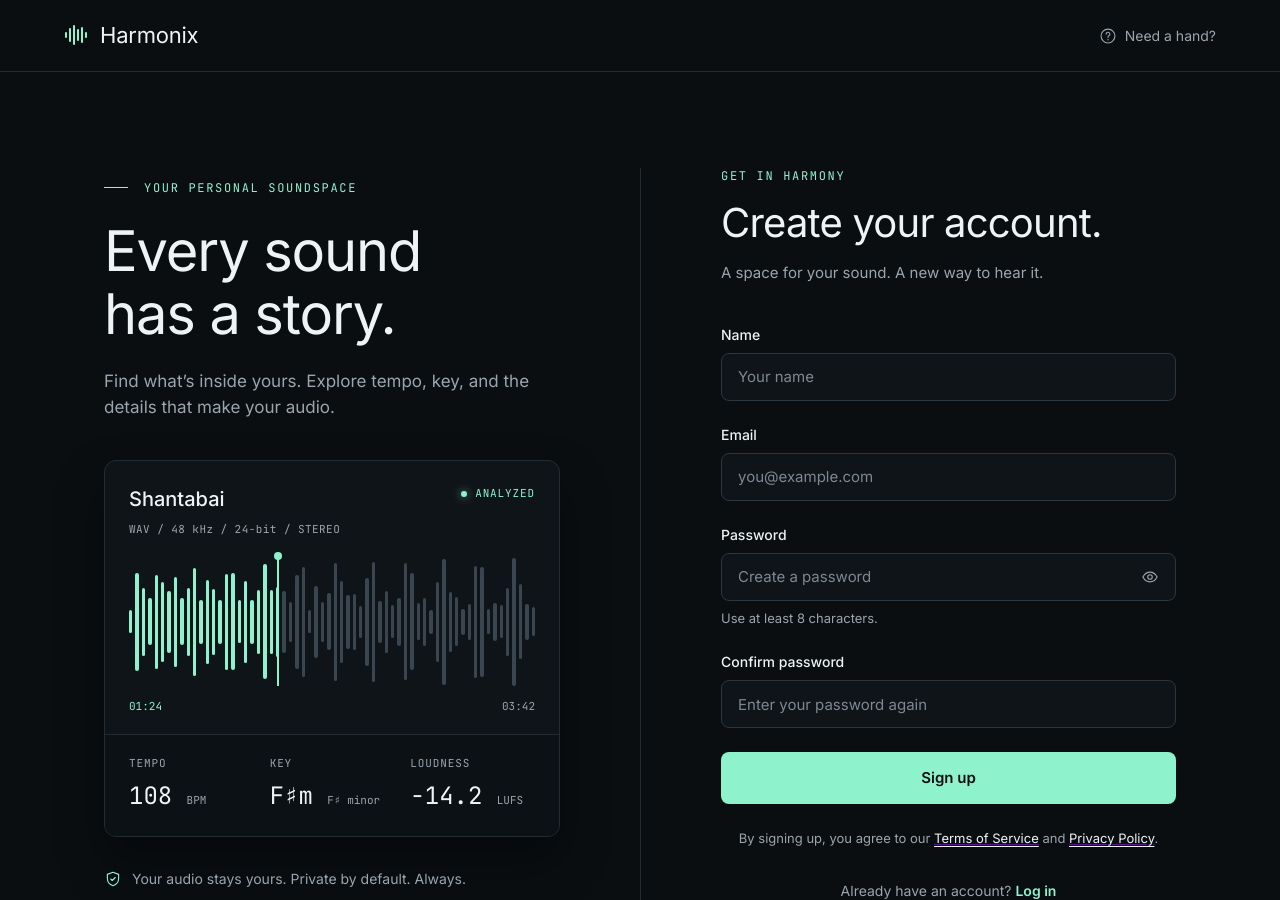
it: login and signup pages › trims signup identity fields and displays email-confirmation guidance
The width and height of the screenshot is (1280, 900).
Type " Listener " into the field labelled "Name" at (948, 376), box [721,352,1176,400]
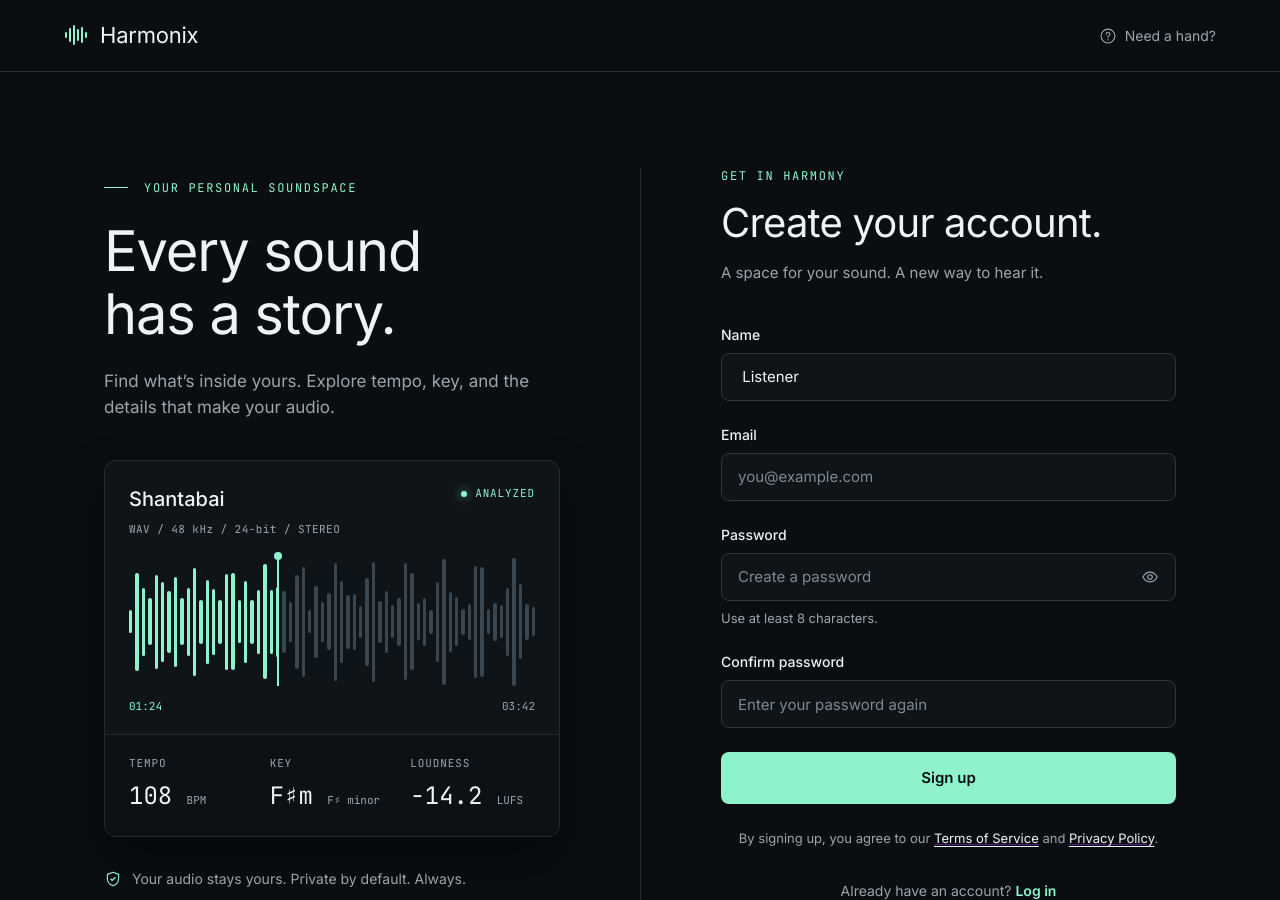
Type " listener@example.com " into the field labelled "Email" at (948, 476), box [721,452,1176,500]
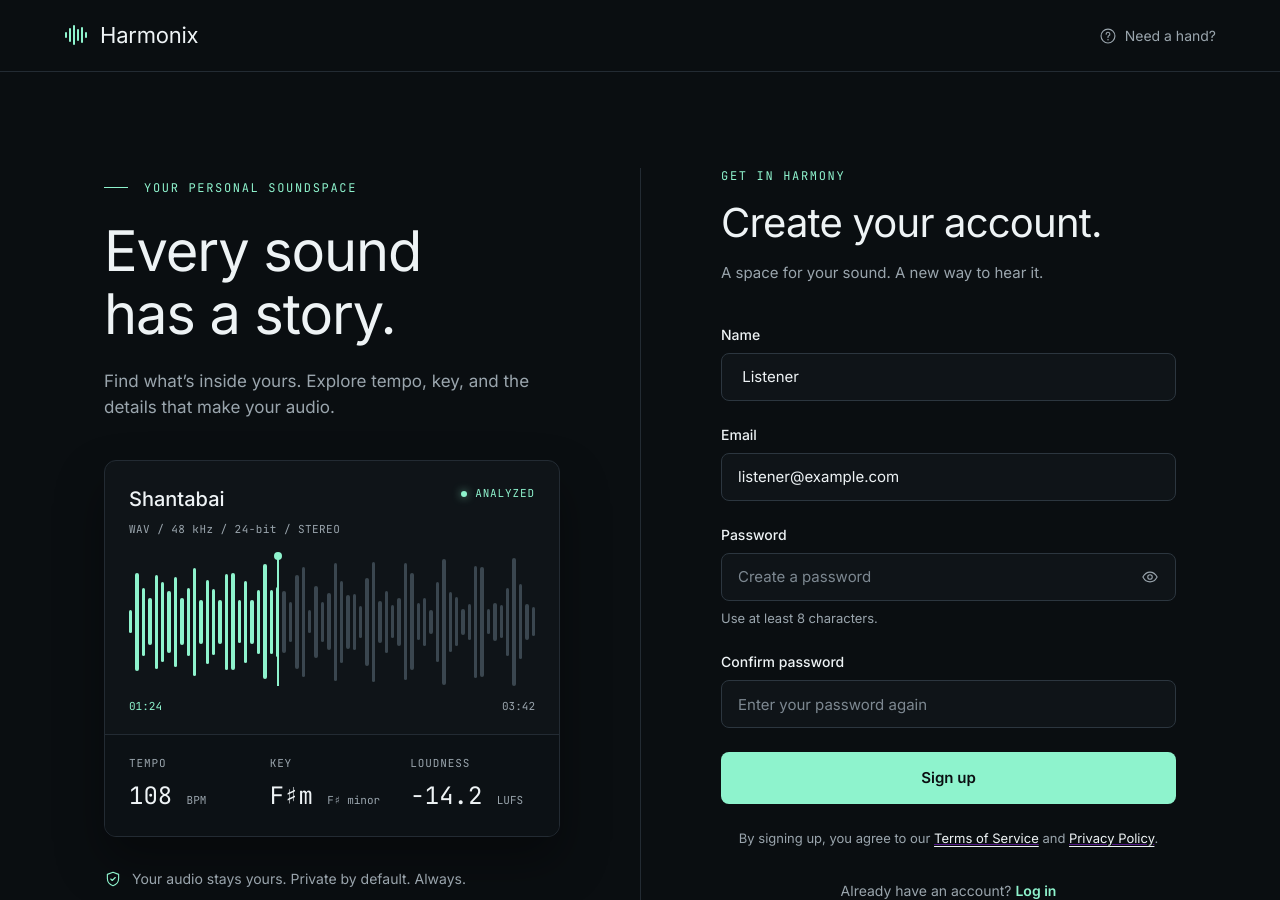
Type "password123" into the password field labelled "Password" at (948, 576), box [721,552,1176,600]
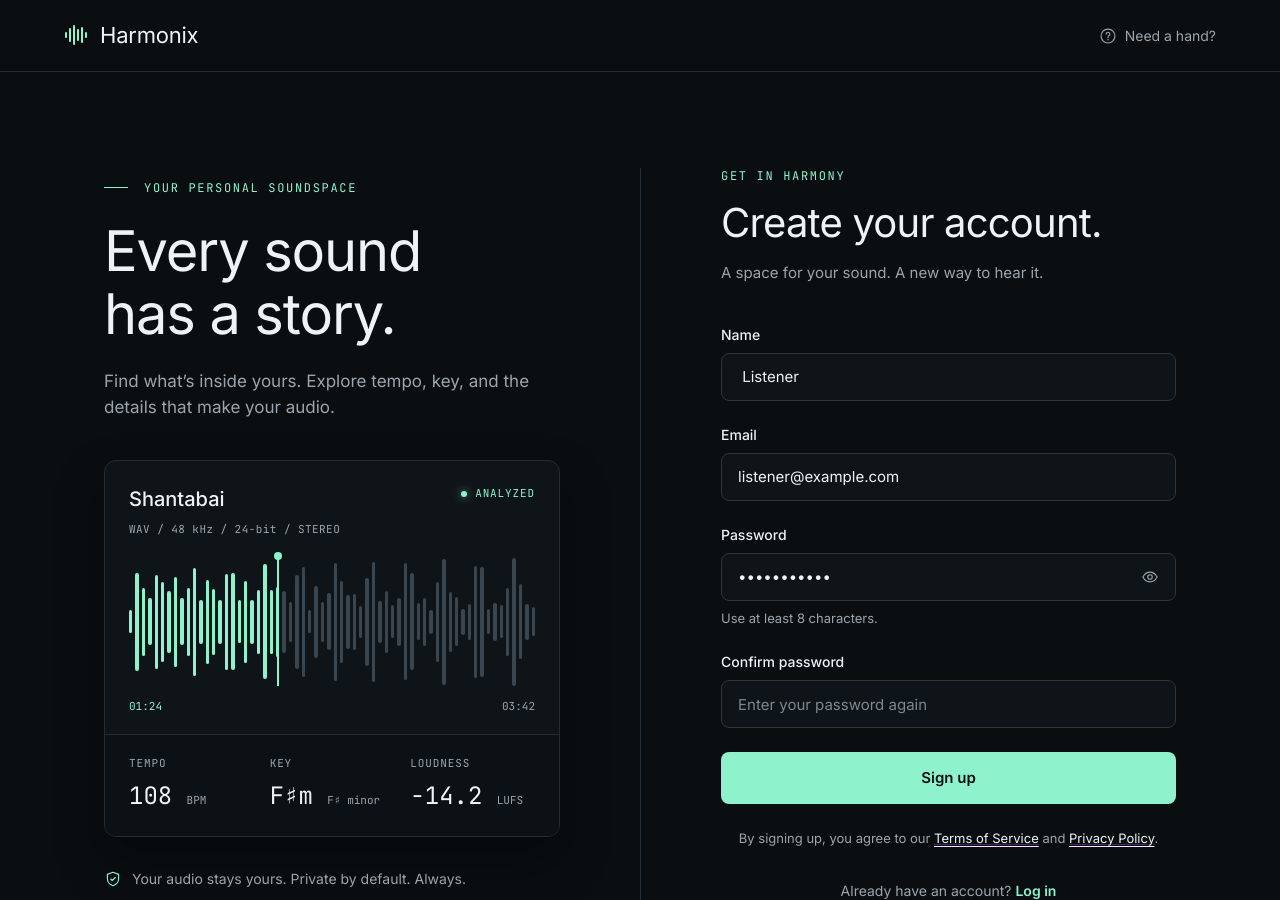
Type "password123" into the password field labelled "Confirm password" at (948, 704), box [721,680,1176,728]
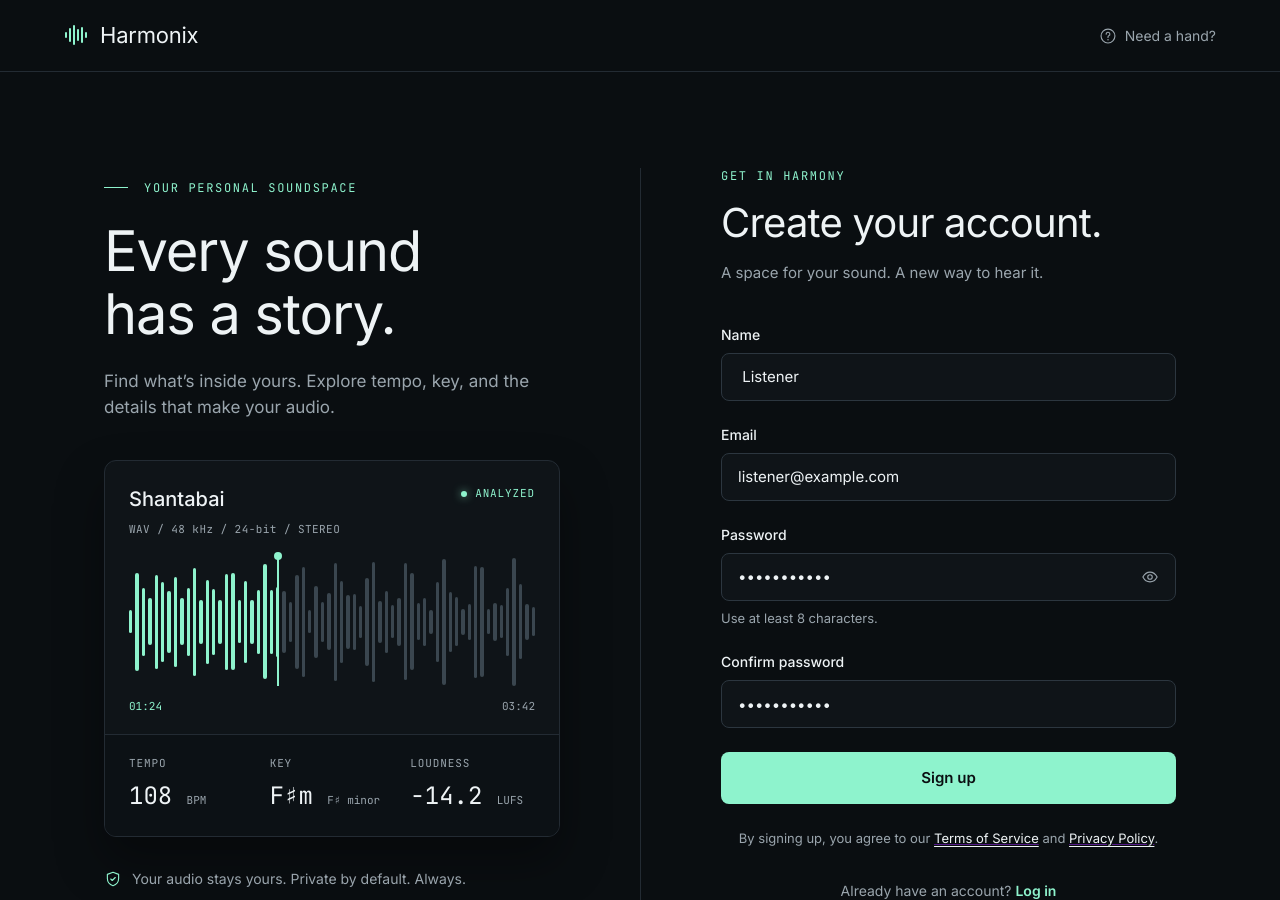
Click the button "Sign up" at (948, 778), box [721,752,1176,804]
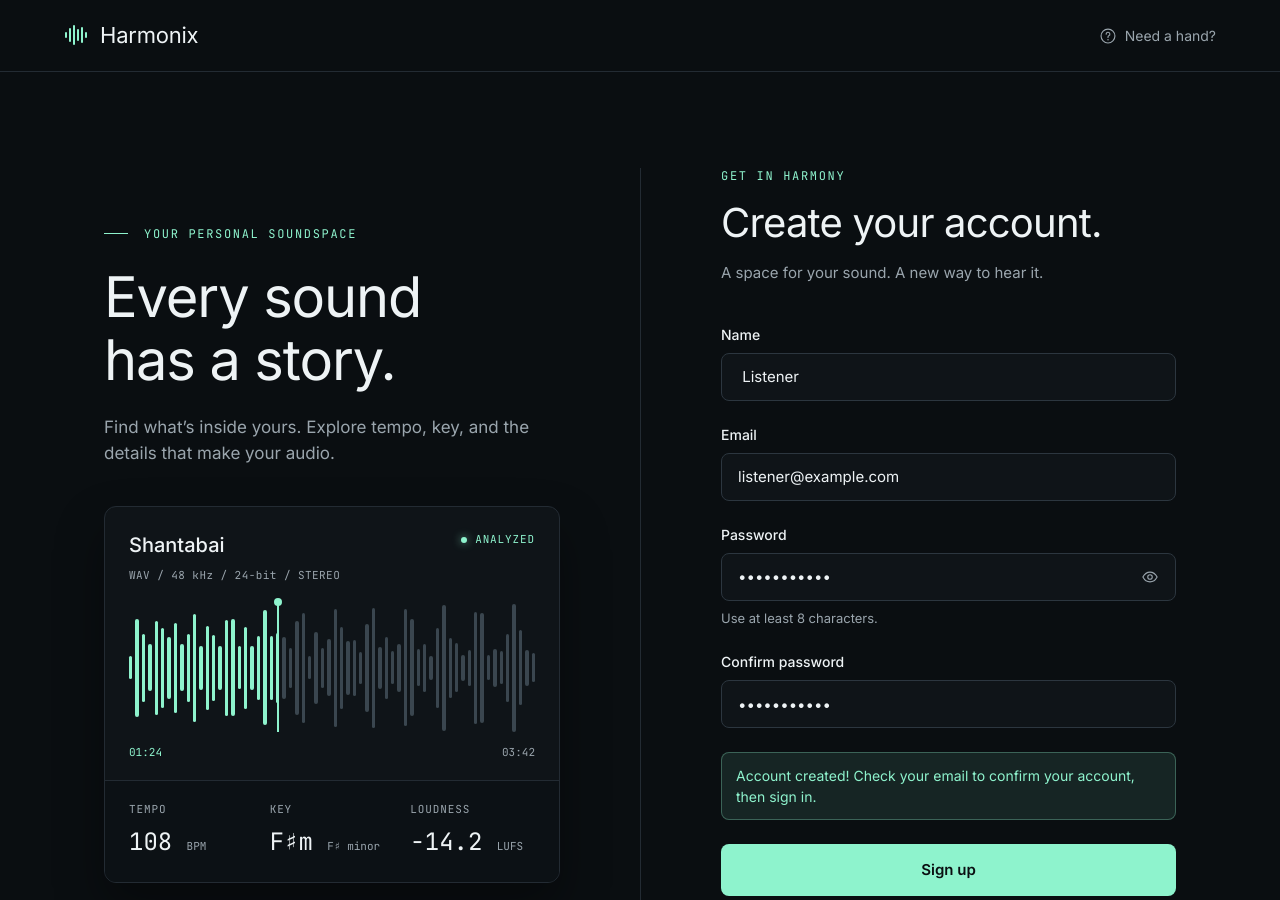
Result: the text "Account created! Check your email to confirm your account, then sign in." is shown at [721,752,1176,820]
